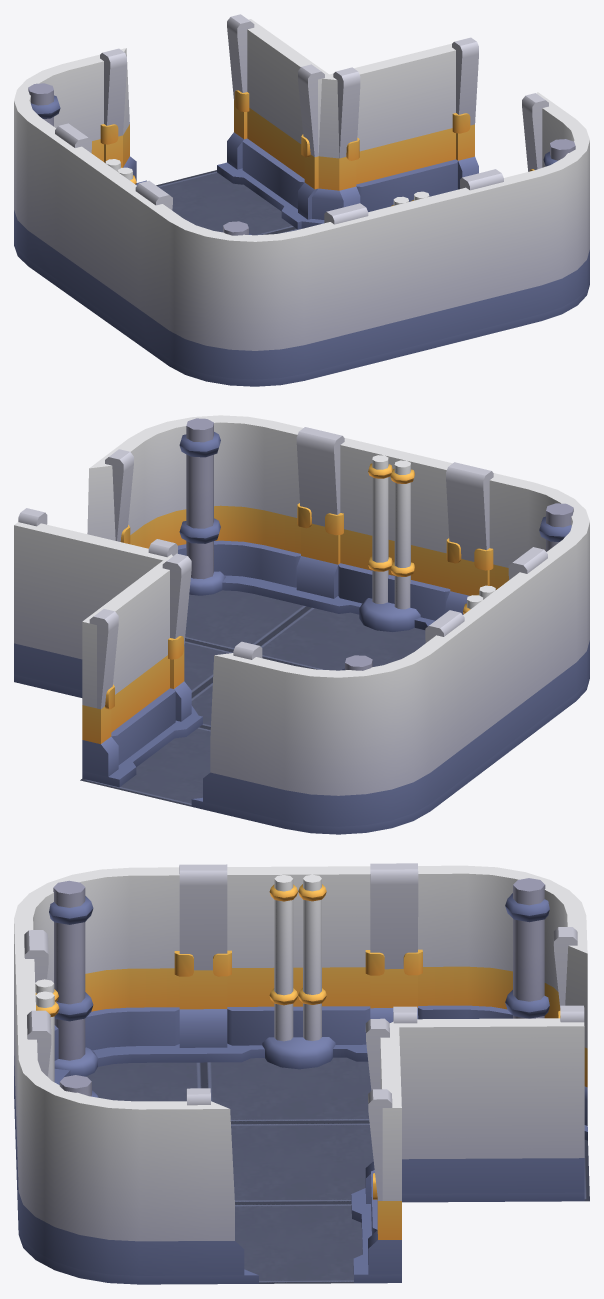
The model's file is room-corner_lev4.glb.
The picture shows the model from 3 angles, top to bottom: view 1: azimuth 30°, elevation 25°; view 2: azimuth 150°, elevation 25°; view 3: azimuth 270°, elevation 25°; orthographic projection. The views are drawn at different scales.
Parts seen in each view (by area): view 1: room-corner_lev4; view 2: room-corner_lev4; view 3: room-corner_lev4.
Boxes of the visible parts, x1=… form: room-corner_lev4: x1=14, y1=14, x2=589, y2=386; room-corner_lev4: x1=14, y1=415, x2=589, y2=834; room-corner_lev4: x1=14, y1=863, x2=589, y2=1284.
Bounding box in the file's own units: 36.29 × 12.75 × 36.23.
1 material, 1 textured.
